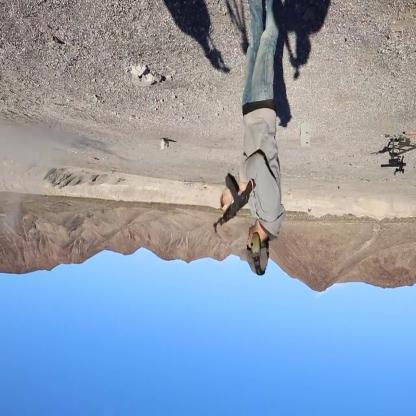long weapon: (213, 162, 262, 233), (377, 138, 409, 183)
